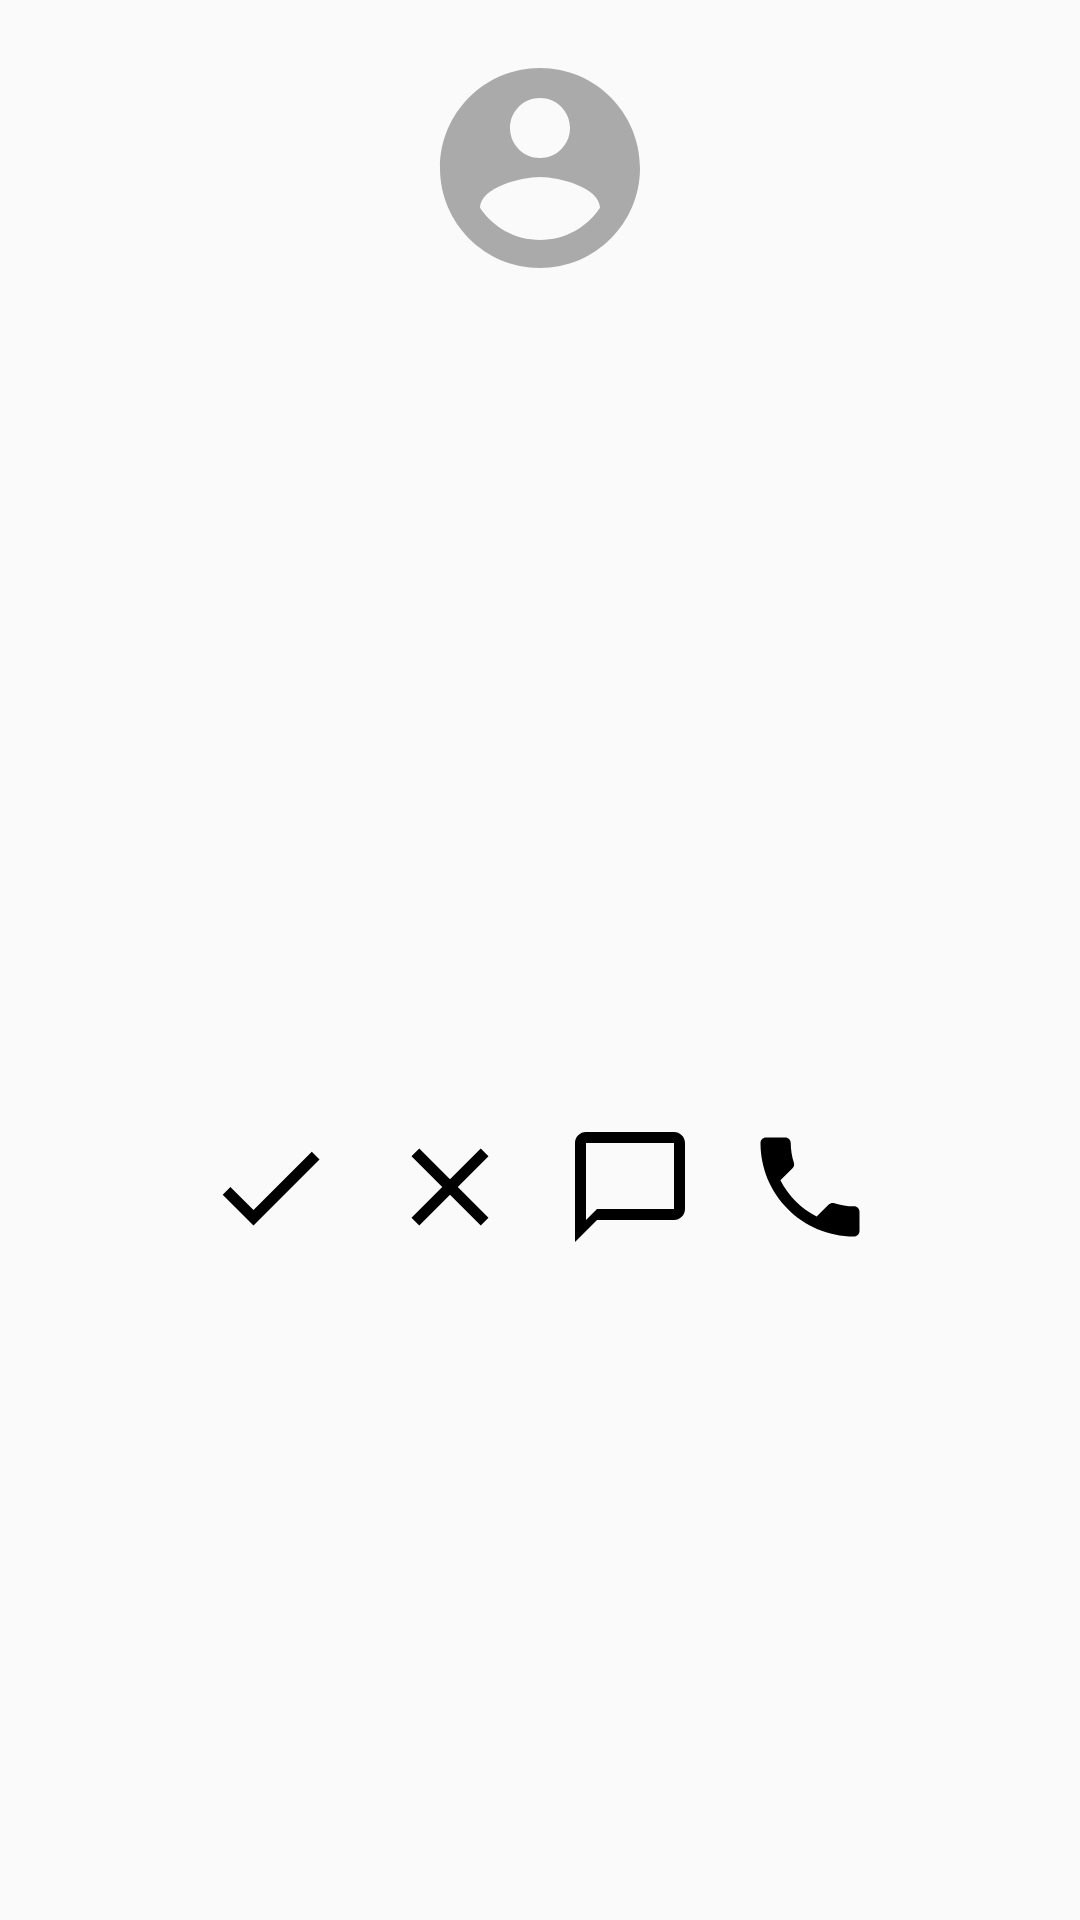

Icon bounding boxes for this 1080 x 1920 phone screenshot, format box(x1, y1, x2, y2):
accept: box(223, 1152, 320, 1226)
call: box(760, 1137, 860, 1237)
chat: box(575, 1132, 685, 1242)
close: box(411, 1148, 489, 1226)
